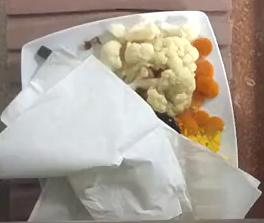carrots: (176, 38, 224, 138)
cauliflower: (100, 21, 199, 117)
rice: (187, 131, 222, 153)
